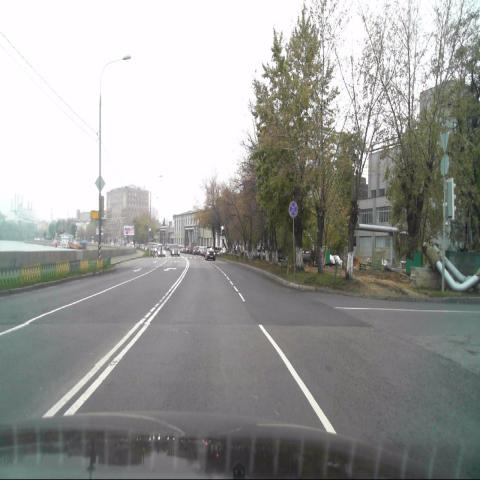3_27: (288, 199, 298, 218)
